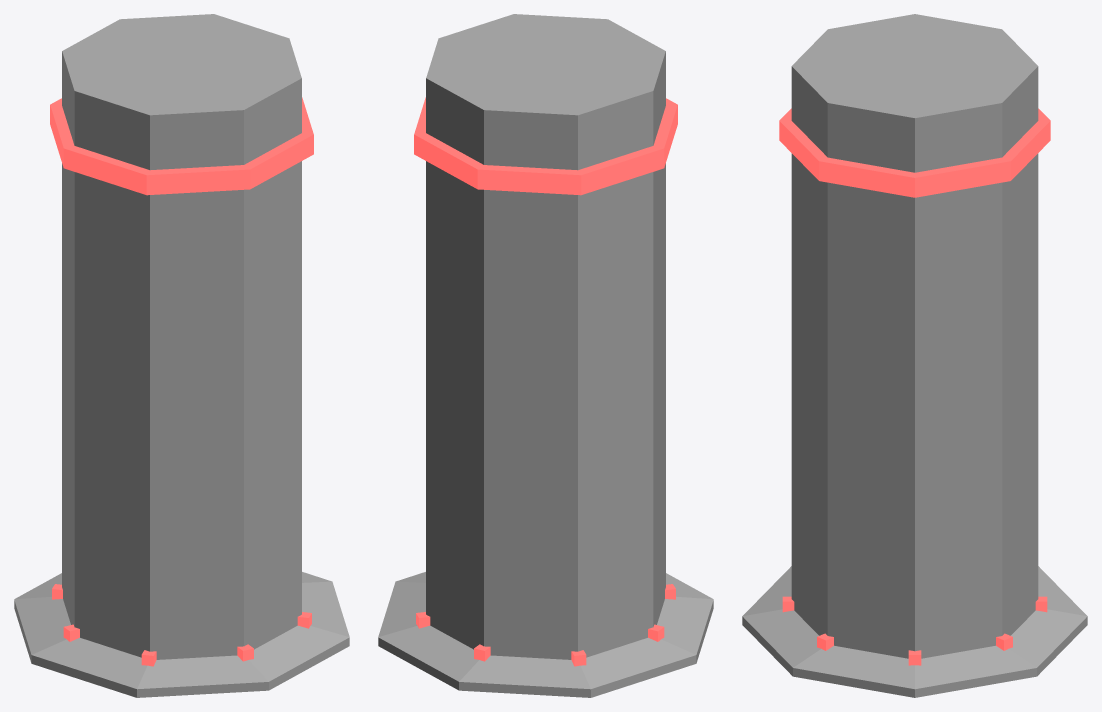
The model's file is BloccoStradale.fbx.
The picture shows the model from 3 angles, left to right: view 1: azimuth 30°, elevation 25°; view 2: azimuth 150°, elevation 25°; view 3: azimuth 270°, elevation 25°; orthographic projection.
Parts seen in each view (by area): view 1: Blocco, SegnaleSuperiore, SegnaleBase; view 2: Blocco, SegnaleSuperiore, SegnaleBase; view 3: Blocco, SegnaleSuperiore, SegnaleBase.
Part boxes in pixels (left/top/right/bottom): Blocco: left=14, top=14, right=349, bottom=697; SegnaleSuperiore: left=50, top=97, right=313, bottom=195; SegnaleBase: left=52, top=584, right=311, bottom=666; Blocco: left=378, top=14, right=713, bottom=697; SegnaleSuperiore: left=414, top=97, right=677, bottom=195; SegnaleBase: left=416, top=584, right=675, bottom=666; Blocco: left=742, top=14, right=1087, bottom=697; SegnaleSuperiore: left=779, top=108, right=1050, bottom=197; SegnaleBase: left=782, top=596, right=1047, bottom=665.
Bounding box in the file's own units: 0.28 × 0.28 × 0.5.
